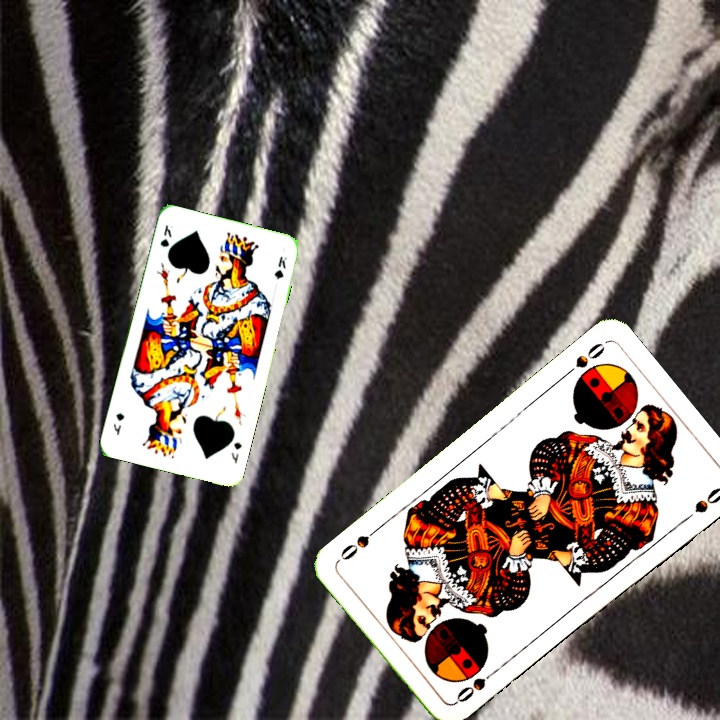GK: (156, 220, 175, 250), (227, 438, 244, 466)
SO: (451, 664, 501, 706), (559, 338, 609, 380)
